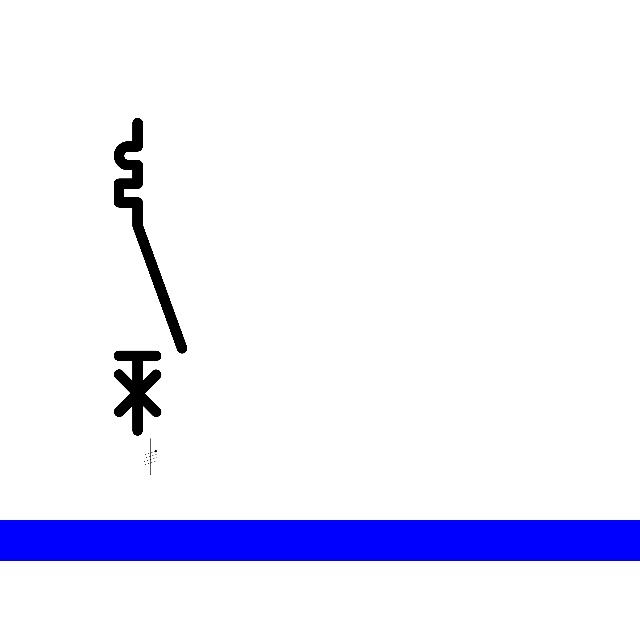interruptor_termomagnetico: (111, 115, 190, 438)
